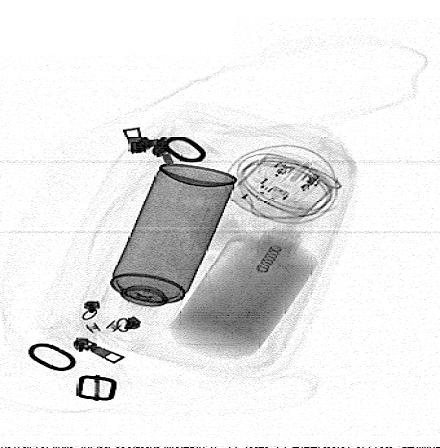Sprayer: (102, 165, 237, 326)
